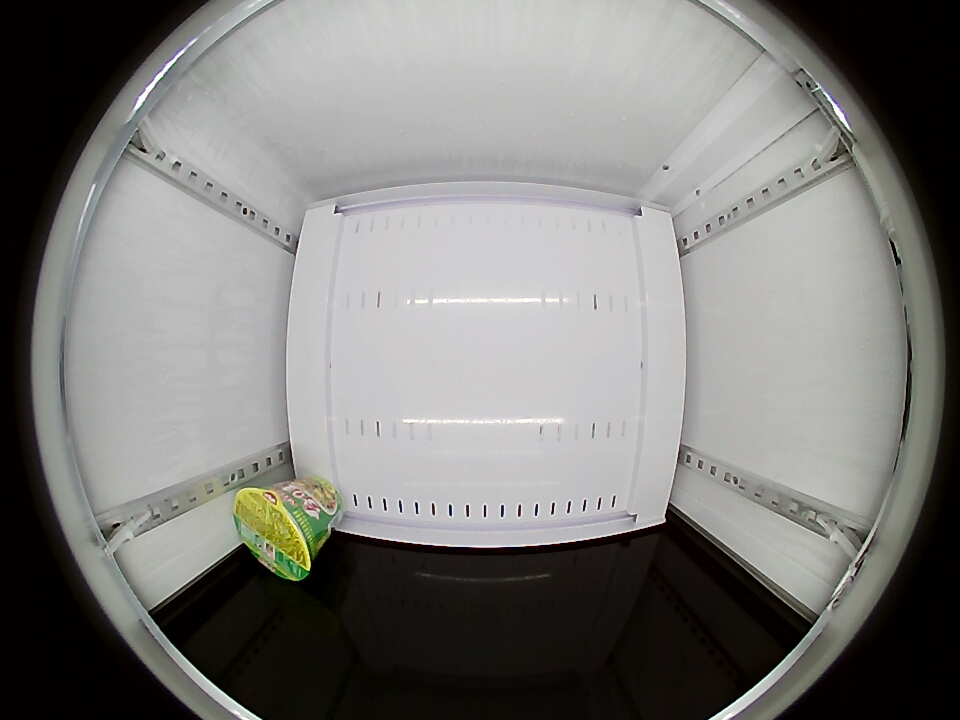heweidao2: (233, 484, 320, 581)
